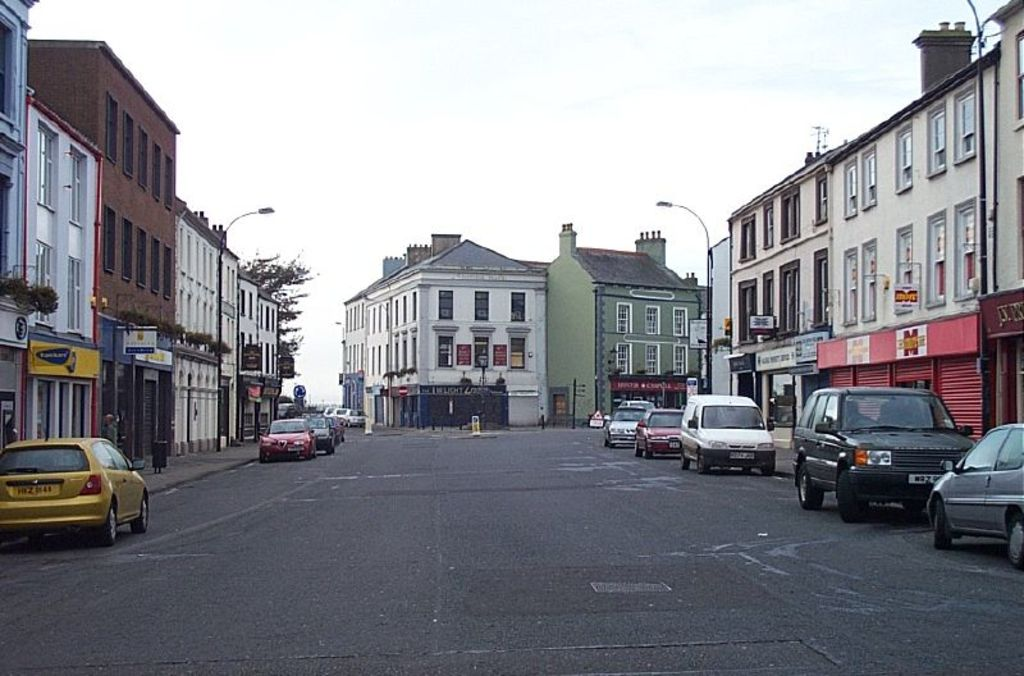Car: (792, 384, 983, 513), (6, 428, 142, 546), (922, 419, 1022, 569), (631, 408, 684, 457), (252, 416, 313, 457), (599, 400, 648, 444), (316, 417, 331, 451), (343, 404, 363, 427), (331, 414, 343, 442), (326, 405, 336, 413)
